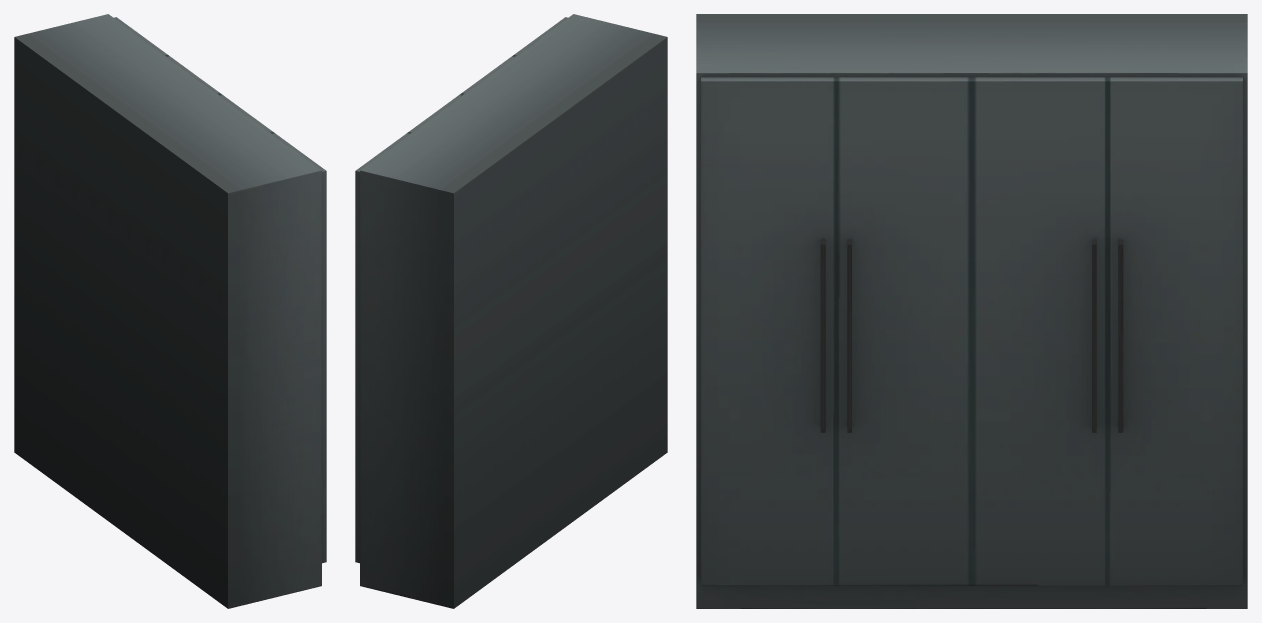
The model's file is wardrobe02.glb.
3 views of the same model, side by side, from view 1: azimuth 30°, elevation 25°; view 2: azimuth 150°, elevation 25°; view 3: azimuth 270°, elevation 25° (orthographic). The views are drawn at different scales.
Visible parts, largest first — view 1: wardrobe02; view 2: wardrobe02; view 3: wardrobe02.
Part boxes in pixels (x1,y1,x2,y2): wardrobe02: (14, 14, 326, 608); wardrobe02: (355, 14, 667, 608); wardrobe02: (696, 14, 1247, 608).
Bounding box in the file's own units: 0.4254 × 1.55 × 1.45.
1 material, 1 textured.
